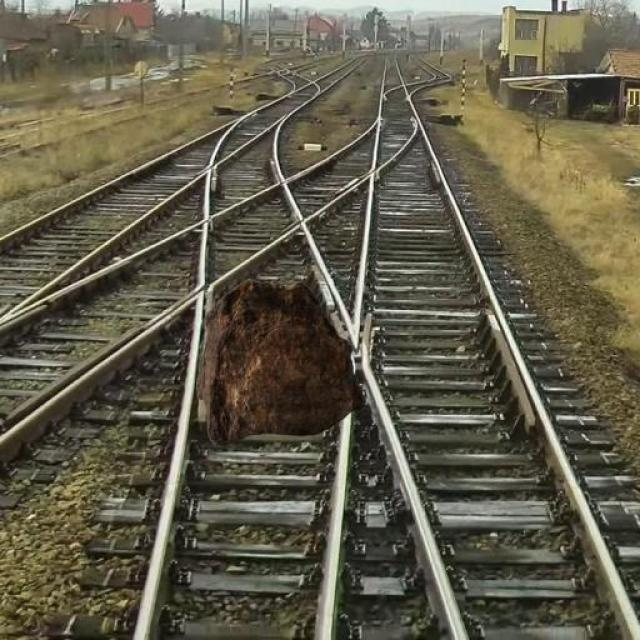Stone: (190, 270, 362, 448)
